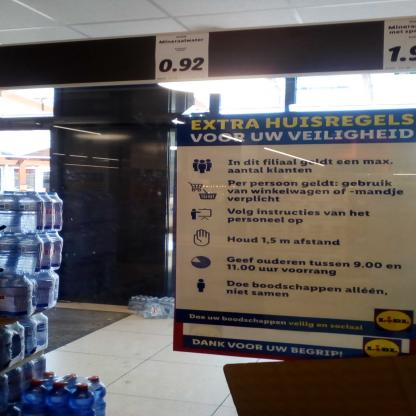prtg: (156, 33, 210, 80), (383, 19, 416, 71)
